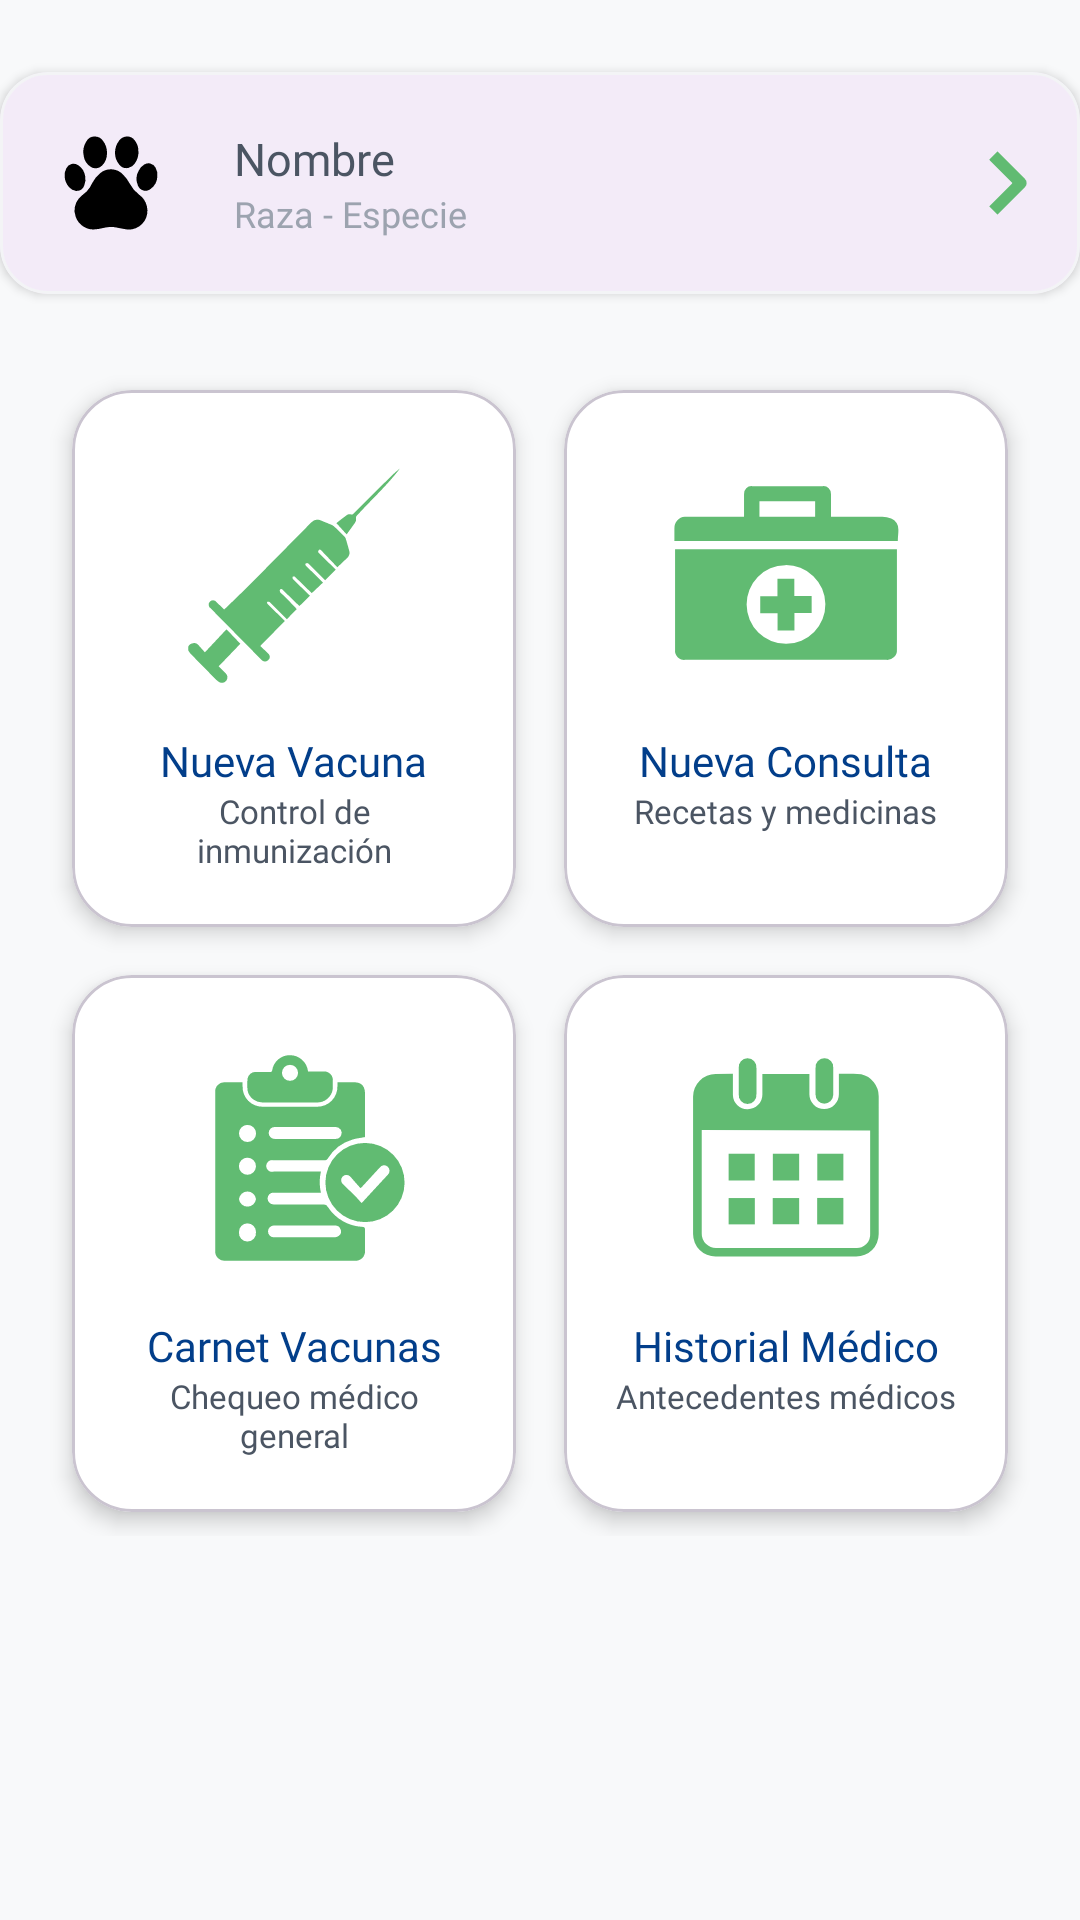

Icon click points for this 1080w x 1920h phone screenshot, format [x,y]:
arrow right: [1008,183]
calendar: [786,1157]
medical services: [786,573]
pet: [111,183]
